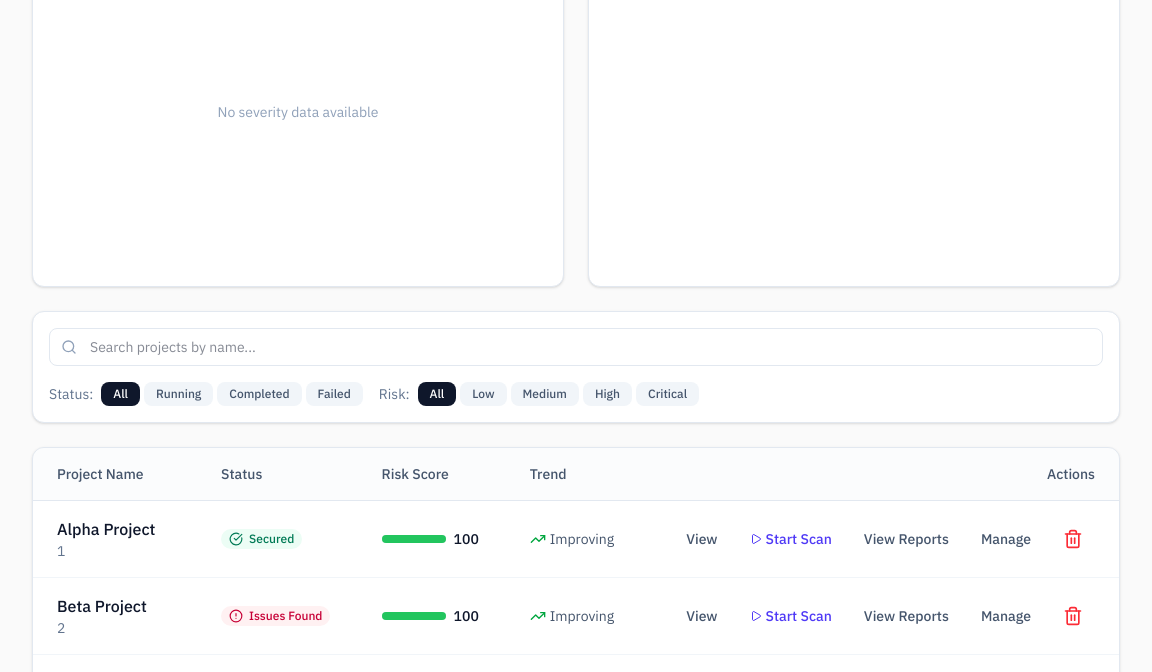
Test: DashboardPage Search › shows "No projects found" message after debounce
(page scrolled)
Expected: the text "Alpha Project" is shown, [57, 519, 156, 539]
// Search for something that doesn't exist
Type "Zeta" into the field labelled "Search projects" at (576, 347), box [49, 328, 1103, 366]
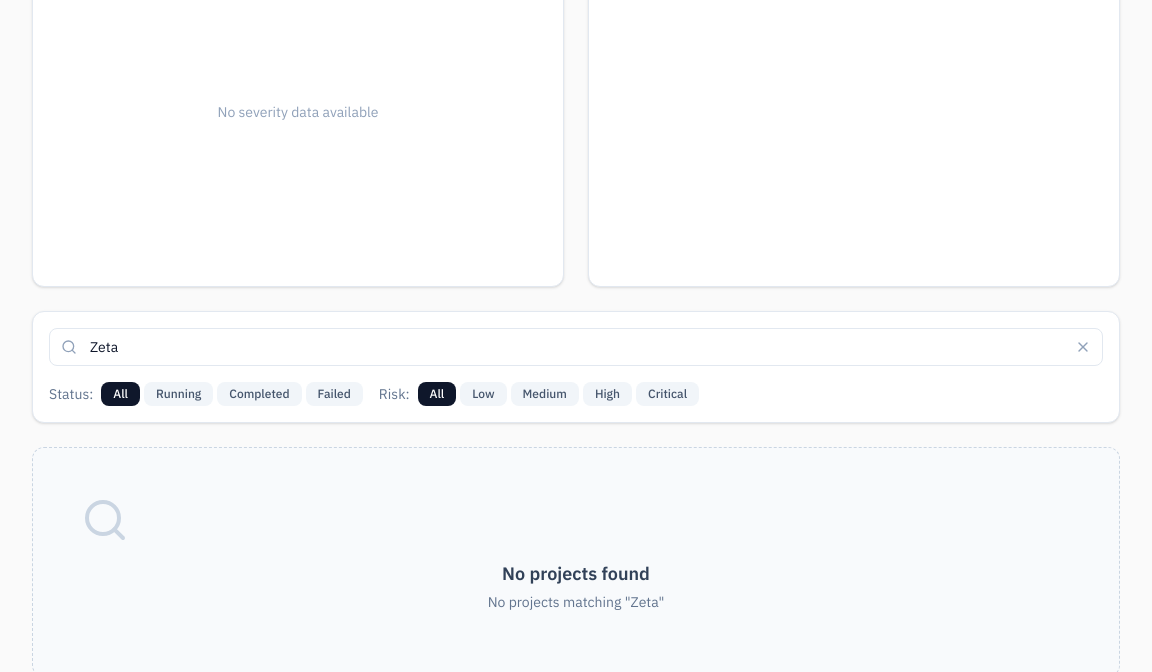
Now the heading "No projects found" is shown, box [502, 562, 650, 585]
Now the text "No projects matching \"Zeta\"" is shown, box [488, 593, 664, 611]
